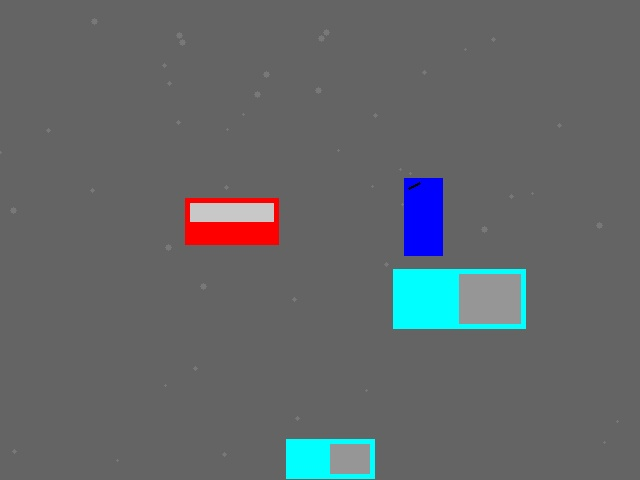car: (185, 198, 278, 244)
motorcycle: (404, 178, 442, 255)
truck: (393, 269, 525, 328), (286, 439, 374, 478)
